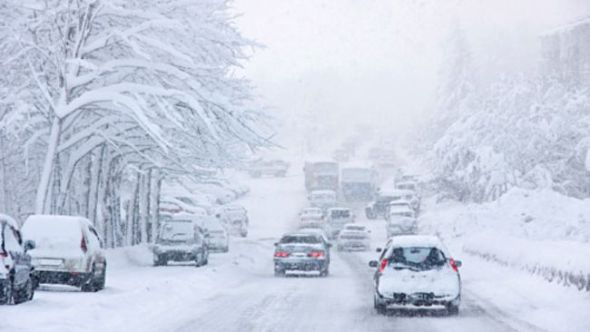car: (370, 236, 464, 320), (25, 214, 109, 294), (272, 232, 333, 279), (336, 224, 374, 252)
